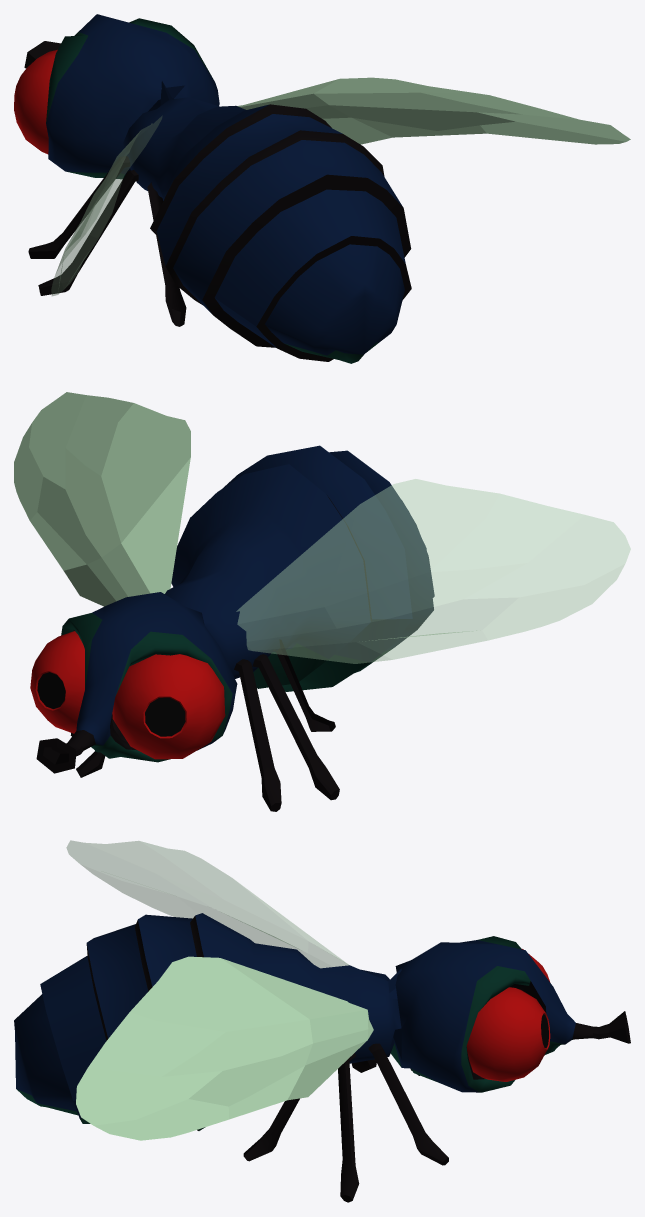
File: fly.FBX
3 renders of one model, top to bottom at view 1: azimuth 30°, elevation 25°; view 2: azimuth 150°, elevation 25°; view 3: azimuth 270°, elevation 25°, orthographic. The views are drawn at different scales.
Visible parts, largest first — view 1: Body, WingRight, WingLeft; view 2: Body, WingLeft, WingRight; view 3: Body, WingRight, WingLeft.
Part boxes in pixels (x1,y1,x2,y2): Body: (14,14,411,363); WingRight: (237,77,630,144); WingLeft: (51,116,162,295); Body: (30,445,434,811); WingLeft: (236,479,630,663); WingRight: (14,392,190,606); Body: (14,913,630,1202); WingRight: (76,956,373,1140); WingLeft: (66,840,349,967).
Size of the model in its own units: 11.85 by 4.95 by 11.63.
